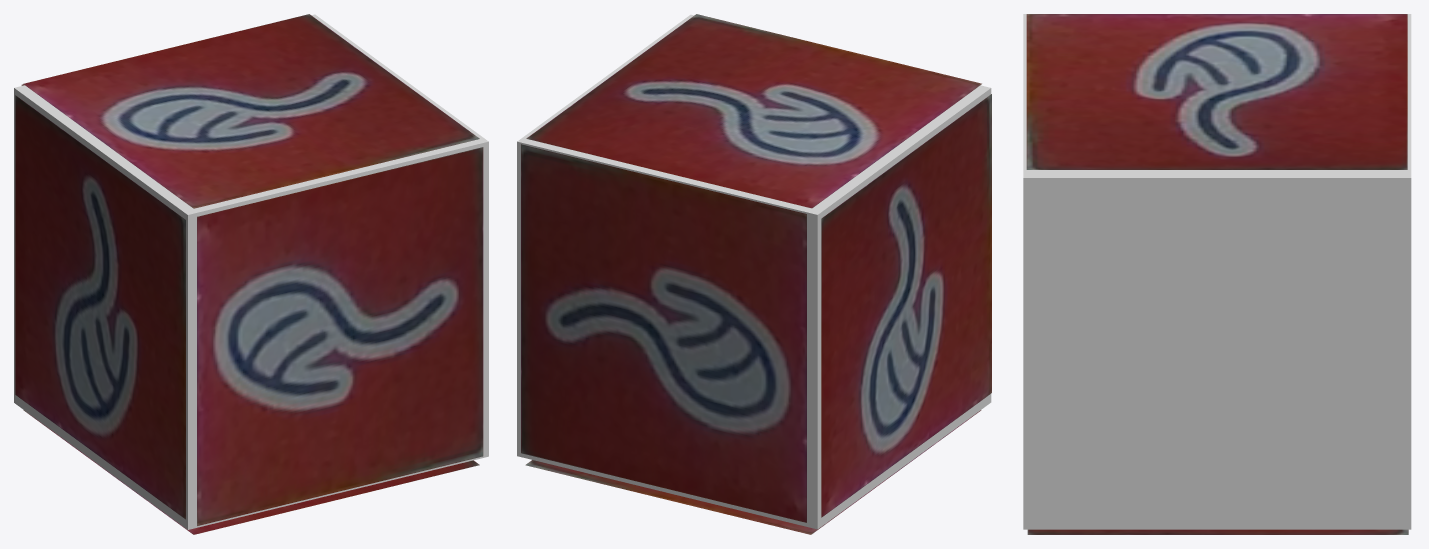
3 views of the same model, side by side, from view 1: azimuth 30°, elevation 25°; view 2: azimuth 150°, elevation 25°; view 3: azimuth 270°, elevation 25° (orthographic). The views are drawn at different scales.
Visible parts, largest first — view 1: fake2.png.005, fake2.png.001, fake2.png.003, Link35, fake2.png.004; view 2: fake2.png.002, fake2.png.001, fake2.png.003, Link35, fake2.png.004; view 3: Link35, fake2.png.003, fake2.png.004.
Part boxes in pixels (<box>): fake2.png.005: <box>197,147,483,525</box>; fake2.png.001: <box>15,95,185,519</box>; fake2.png.003: <box>23,14,479,208</box>; Link35: <box>14,14,488,529</box>; fake2.png.004: <box>23,410,479,534</box>; fake2.png.002: <box>521,144,806,522</box>; fake2.png.001: <box>821,94,991,517</box>; fake2.png.003: <box>526,14,981,208</box>; Link35: <box>517,14,991,529</box>; fake2.png.004: <box>525,410,981,534</box>; Link35: <box>1023,14,1411,529</box>; fake2.png.003: <box>1026,14,1407,169</box>; fake2.png.004: <box>1027,529,1408,534</box>.
Size of the model in its own units: 0.3515 by 0.3561 by 0.3629.
Materials: 1 (1 with a texture image).
